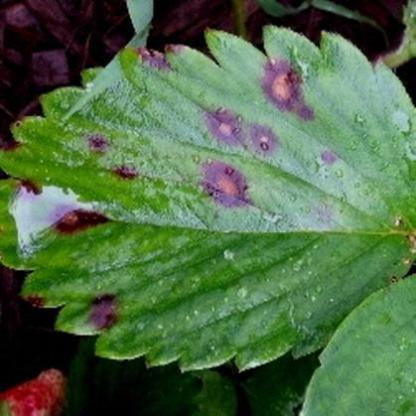Strawberry_Leaf_Spot: (0, 25, 415, 375)
Strawberry_Powdery_Mildew_Fruit: (0, 368, 68, 415)
